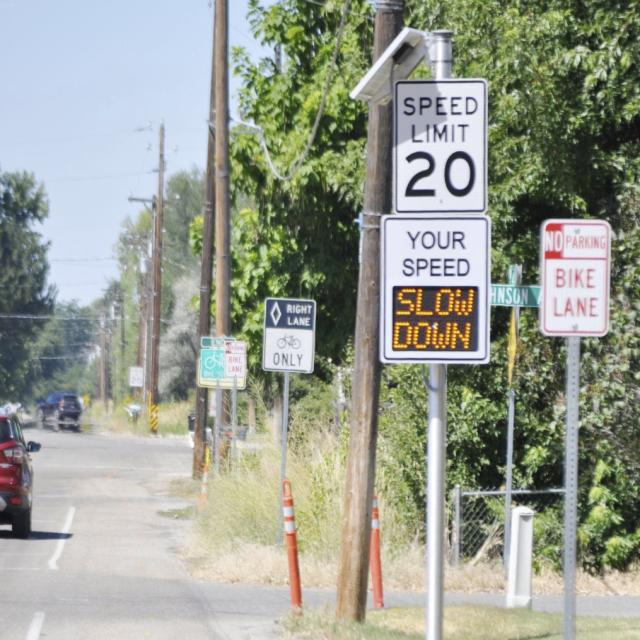speedLimit20: (395, 80, 488, 214)
